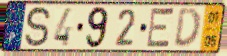2: (113, 8, 137, 48)
4: (50, 6, 74, 49)
9: (84, 6, 111, 50)
D: (172, 7, 202, 51)
E: (144, 5, 176, 51)
S: (24, 5, 53, 49)
